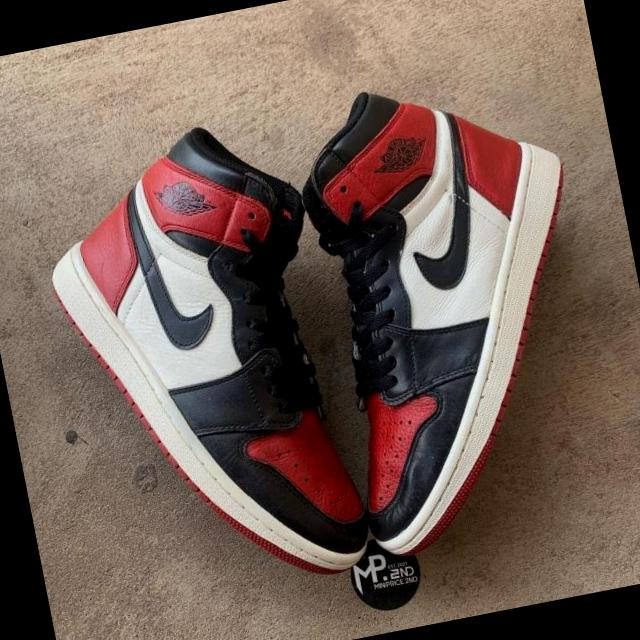nike_original_jordan: (21, 99, 386, 619), (274, 69, 634, 570)
